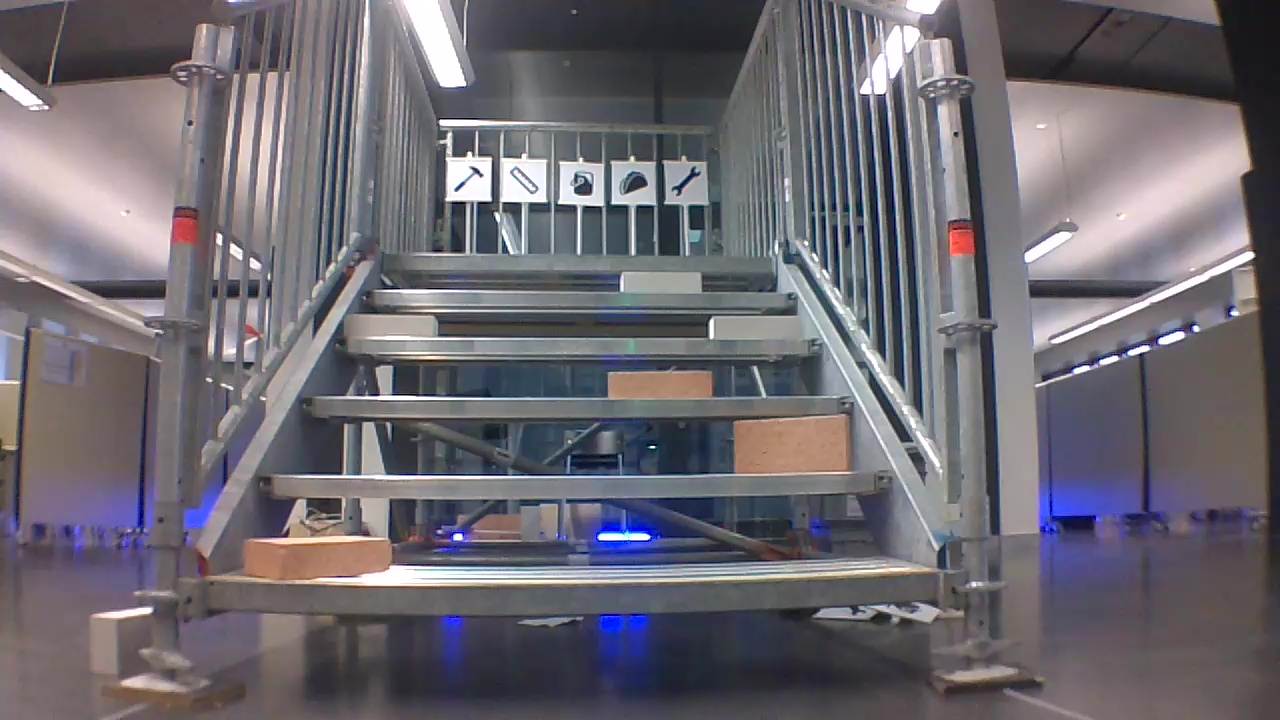brick: (732, 412, 859, 478), (236, 535, 398, 577), (85, 609, 152, 678), (604, 366, 715, 399), (706, 310, 804, 341), (618, 269, 707, 293), (337, 317, 435, 336)
bucket: (570, 168, 597, 198)
edge: (189, 569, 942, 616), (268, 467, 880, 503), (304, 391, 853, 416), (332, 335, 823, 360), (367, 288, 798, 308), (375, 251, 777, 271)
hammer: (452, 164, 482, 192)
ruler: (508, 166, 540, 196)
stairs: (159, 0, 987, 697)
steps: (198, 244, 953, 622)
taco: (619, 171, 648, 199)
wrench: (670, 166, 704, 196)
